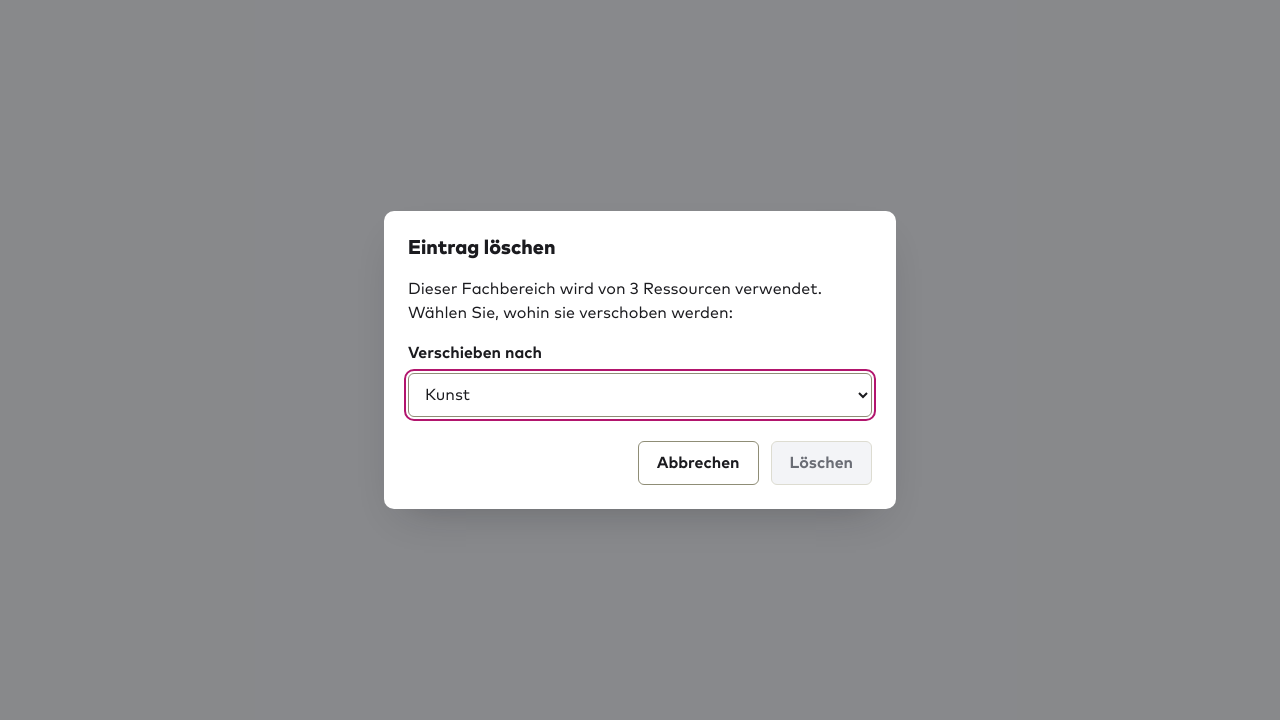
Test case: DeleteDialog › reassign: Dialog-Semantik, Fokus auf Auswahl, Bestätigen erst nach Auswahl
Later steps or results of the test are not shown.
Check: the dialog shows "Dieser Fachbereich wird von 3 Ressourcen verwendet. Wählen Sie, wohin sie verschoben werden:", box [408, 281, 822, 321]
Check: the button "Löschen" is disabled, box [771, 441, 872, 485]
Select "Kunst" in the dropdown labelled "Verschieben nach" at (640, 395), box [408, 373, 872, 417]
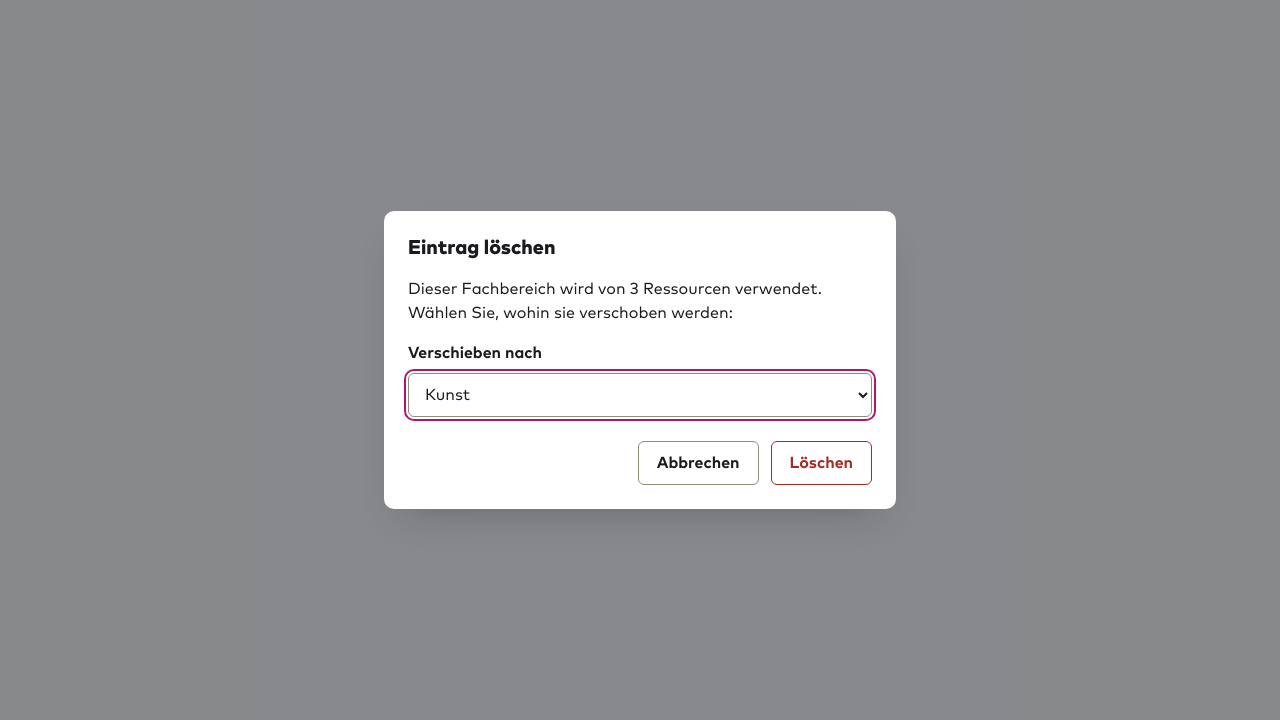
Check: the button "Löschen" is enabled, box [771, 441, 872, 485]
